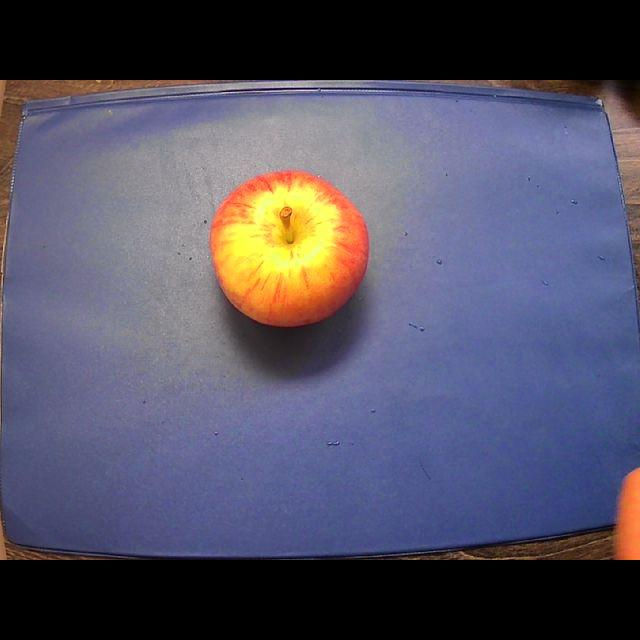manzana: (211, 172, 368, 326)
